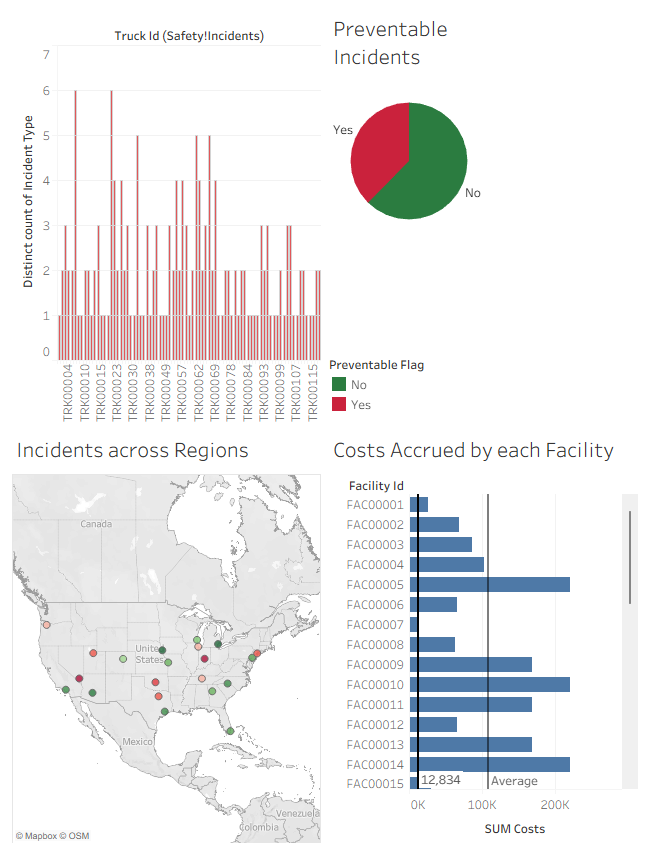

The dashboard page shown, as its layout file describes it:
{"tool":"tableau","page":{"name":"Dashboard 1","canvas":[650,860],"ordinal":0},"visuals":[{"type":"worksheet","title":"Sheet 4","mark":"Automatic","rows":["incident_type"],"cols":["truck_id (safety!incidents)"],"box":[8,8,317,422]},{"type":"worksheet","title":"Sheet 1","mark":"Pie","box":[325,8,317,346.7]},{"type":"legend","title":"Sheet 1","param":"[federated.1qlfjch0y8hhwv153bdbg1yt8v4f].[none:preventable_flag:nk]","box":[325,354.7,317,75.3]},{"type":"worksheet","title":"Sheet 2","mark":"Multipolygon","rows":["latitude"],"cols":["longitude"],"box":[8,430,317,422]},{"type":"worksheet","title":"Sheet 3","mark":"Automatic","rows":["facility_id"],"cols":["Calculation_1545950459695104"],"box":[325,430,317,422]}]}

Visuals, with their boxes in screenshot pixels (x1, y1, x2, y2), scaled from the page's 650x860 canvas onto the 650x853 screenshot:
"Sheet 4" worksheet: region(8, 8, 325, 426)
"Sheet 1" worksheet (Pie marks): region(325, 8, 642, 352)
"Sheet 1" legend: region(325, 352, 642, 426)
"Sheet 2" worksheet (Multipolygon marks): region(8, 426, 325, 845)
"Sheet 3" worksheet: region(325, 426, 642, 845)
